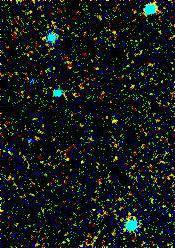star: (97, 107, 127, 137)
